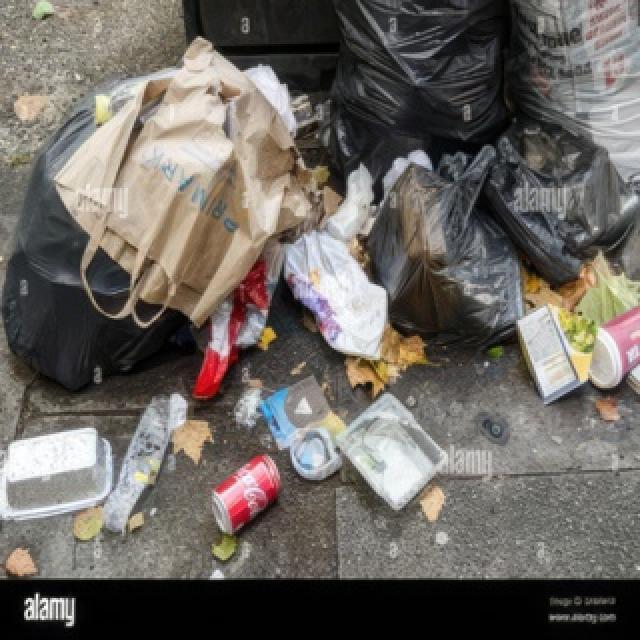Trashbag: (0, 202, 158, 389), (331, 0, 492, 156), (367, 171, 498, 349), (494, 116, 614, 254)
